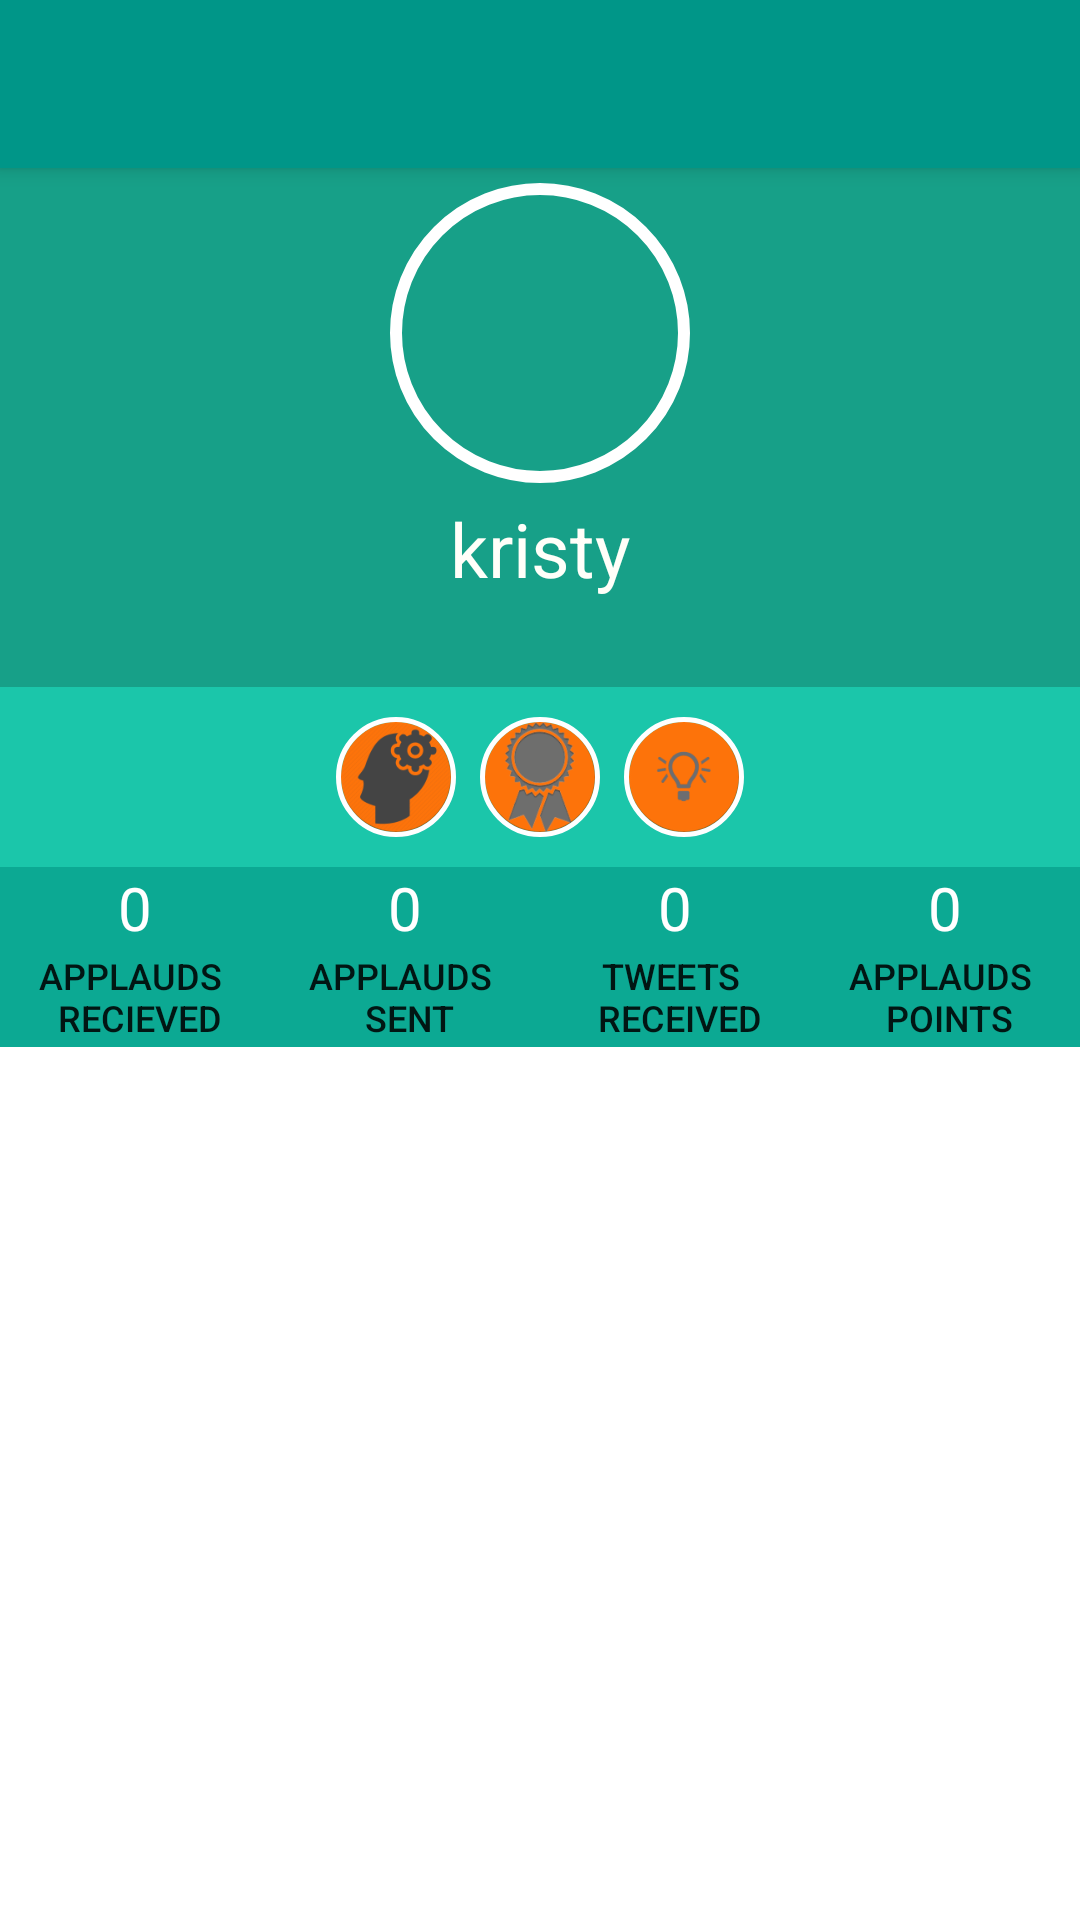

Screen size 1080px×1920px. Icon name, then its center in pixels as (x=x, y=y):
innov: (x=684, y=777)
